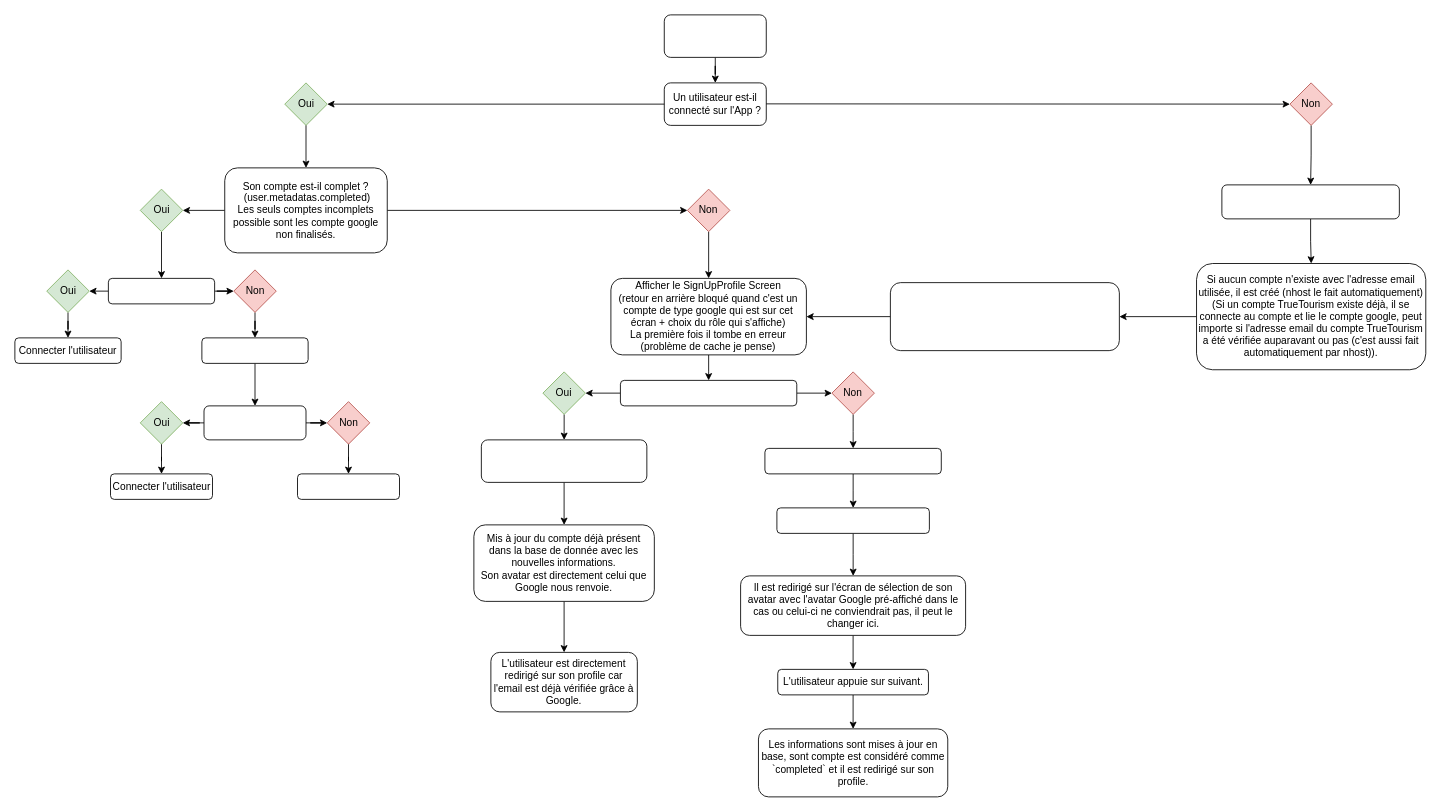
The diagram is 1441 pixels wide and 812 high, and some of its shapes have lost their labels. The box of each missing label's shape, as (x1, y1, x2, y2) in pixels:
Afficher les CGU: (201, 337, 308, 363)
Déconnecter l'utilisateur: (297, 473, 400, 499)
Il remplit toutes ses informations et appuie sur suivant.: (776, 507, 929, 533)
Il remplit toutes ses informations liées au profile et appuie sur suivant.: (481, 439, 647, 482)
Je lance l'application: (663, 14, 766, 57)
L'utilisateur a choisit le rôle `guide`: (764, 448, 941, 474)
L'utilisateur a choisit le rôle `tourist`: (620, 380, 797, 406)
L'utilisateur décide de se connecter avec google.: (1221, 184, 1399, 219)
L'utilisateur est redirigé sur le SignUpProfile pour compléter son profile.: (890, 282, 1119, 351)
L'utilisateur valide les CGU ?: (203, 405, 306, 440)
À-t-il validé les CGU ?: (108, 278, 215, 304)
